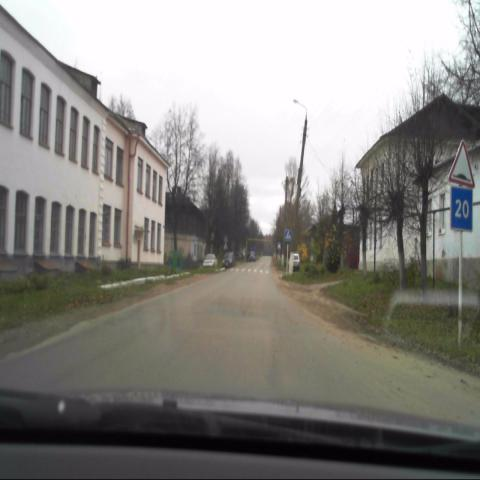6_2: (450, 187, 473, 230)
